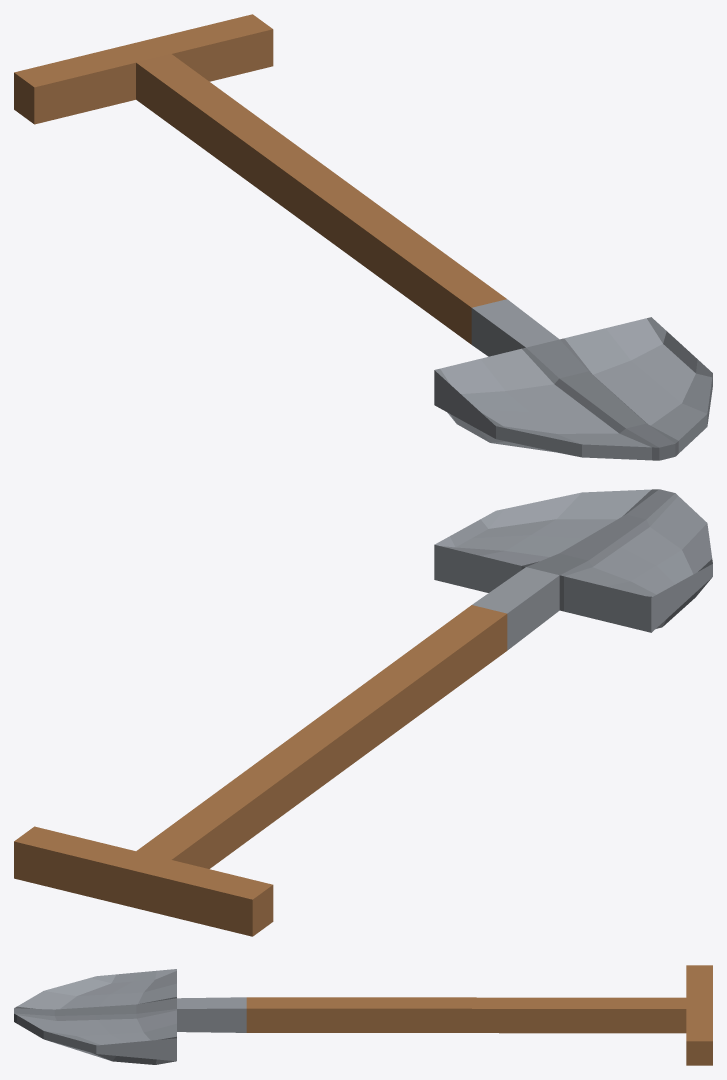
Rendered from Kurek.fbx.
3 views of the same model, one above another, from view 1: azimuth 30°, elevation 25°; view 2: azimuth 150°, elevation 25°; view 3: azimuth 270°, elevation 25° (orthographic). The views are drawn at different scales.
Visible parts, largest first — view 1: Kurek; view 2: Kurek; view 3: Kurek.
Boxes of the visible parts, left/top/right/bottom form: Kurek: left=14, top=14, right=712, bottom=460; Kurek: left=14, top=489, right=712, bottom=936; Kurek: left=14, top=965, right=712, bottom=1065.
Bounding box in the file's own units: 147 × 26.01 × 568.
